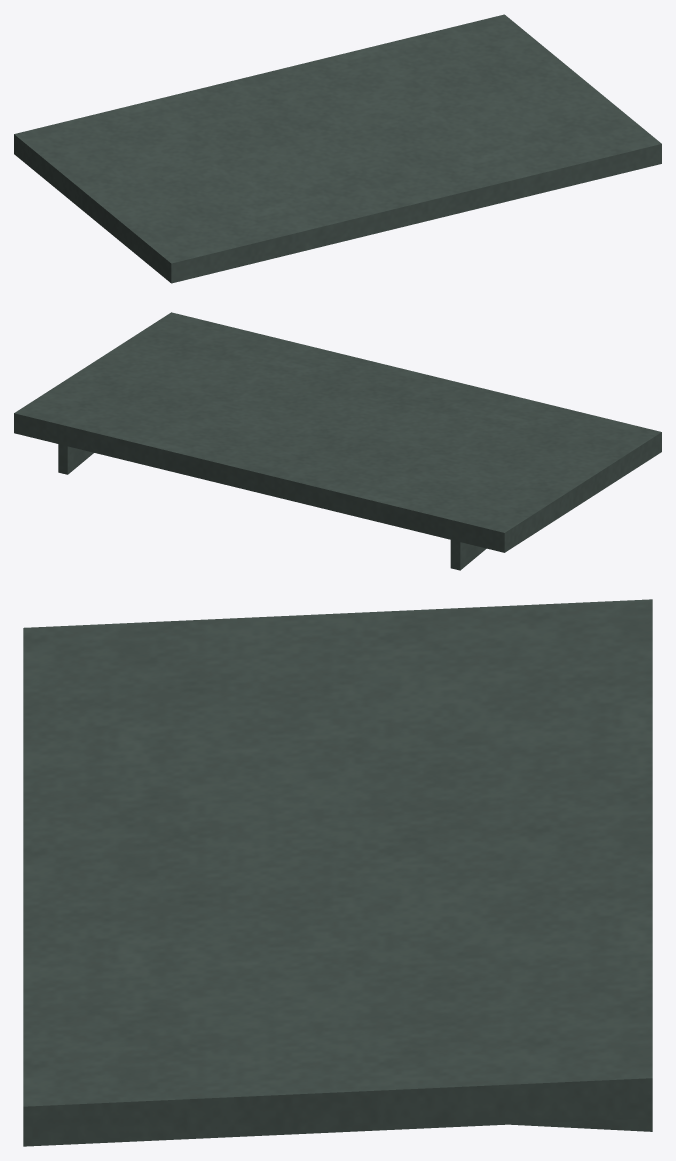
The model's file is flat-metal-awning.lod1.glb.
3 views of the same model, one above another, from view 1: azimuth 30°, elevation 25°; view 2: azimuth 150°, elevation 25°; view 3: azimuth 270°, elevation 25° (orthographic). The views are drawn at different scales.
Visible parts, largest first — view 1: flat-metal-awning; view 2: flat-metal-awning; view 3: flat-metal-awning.
Boxes of the visible parts, x1,y1,x2,y2 form: flat-metal-awning: (14,14,661,283); flat-metal-awning: (14,312,661,570); flat-metal-awning: (23,599,652,1146).
Bounding box in the file's own units: 1.8 × 0.17 × 1.
Materials: 1 (1 with a texture image).
